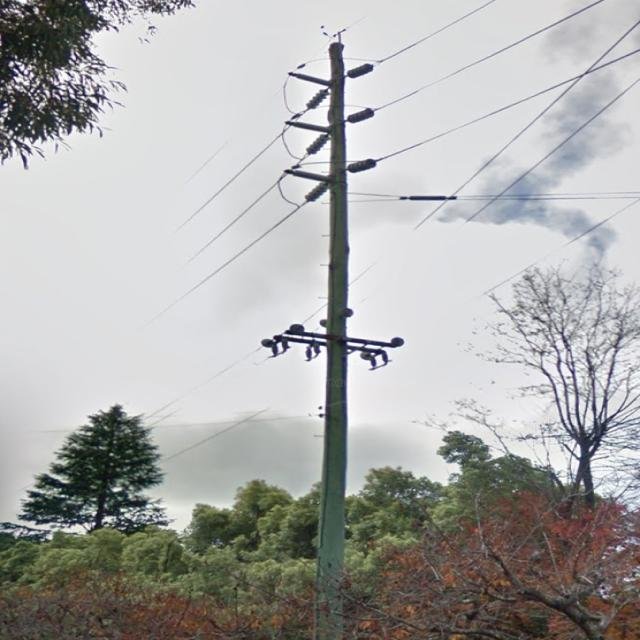HV-transmission: (284, 27, 378, 203), (260, 306, 404, 371)
crossarm: (272, 334, 382, 356), (284, 330, 392, 347)
timber-pole: (312, 41, 344, 640)
